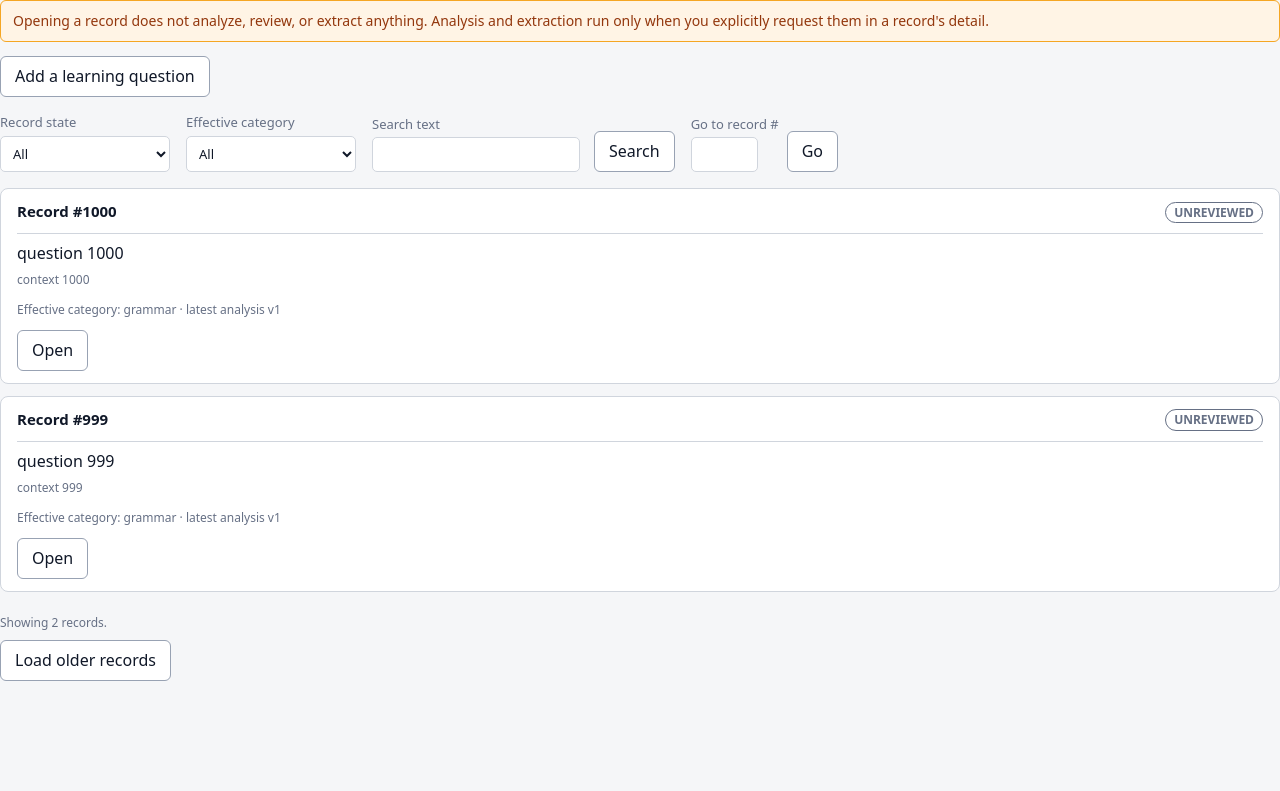
Test: RecordsBrowser finding old records (FLH-089) › jumps to an old record with one cursor request, reaches the last page, and returns to the newest
Expected: the text "question 1000" is shown, [17,242,124,264]
Type "#3" into the field labelled "Go to record #" at (724,155), box [691,138,758,172]
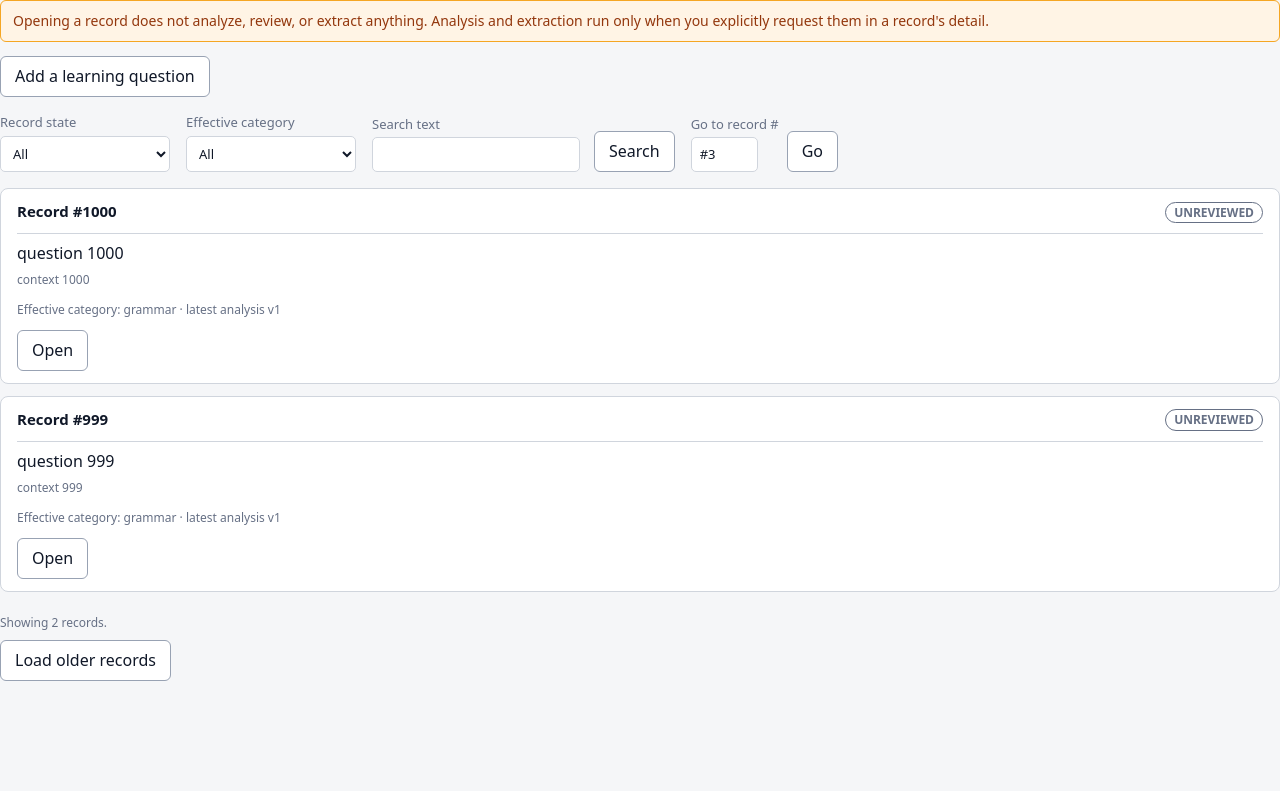
Click the button "Go" at (812,152), box [787,131,838,172]
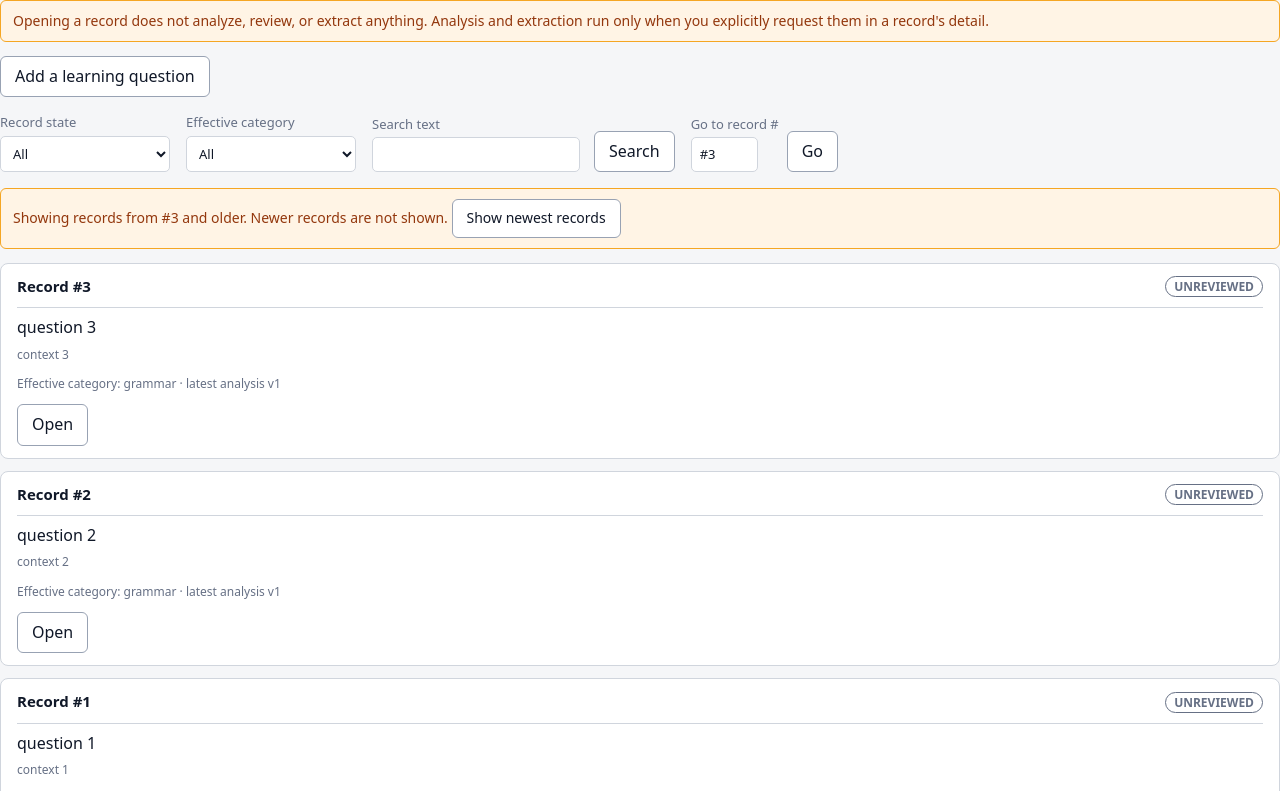
Expected: the text "question 3" is shown, [17,316,96,338]
Expected: the message shows "Showing records from #3 and older. Newer records are not shown.", [13,208,448,227]
Click the button "Show newest records" at (536,218), box [452,199,621,238]
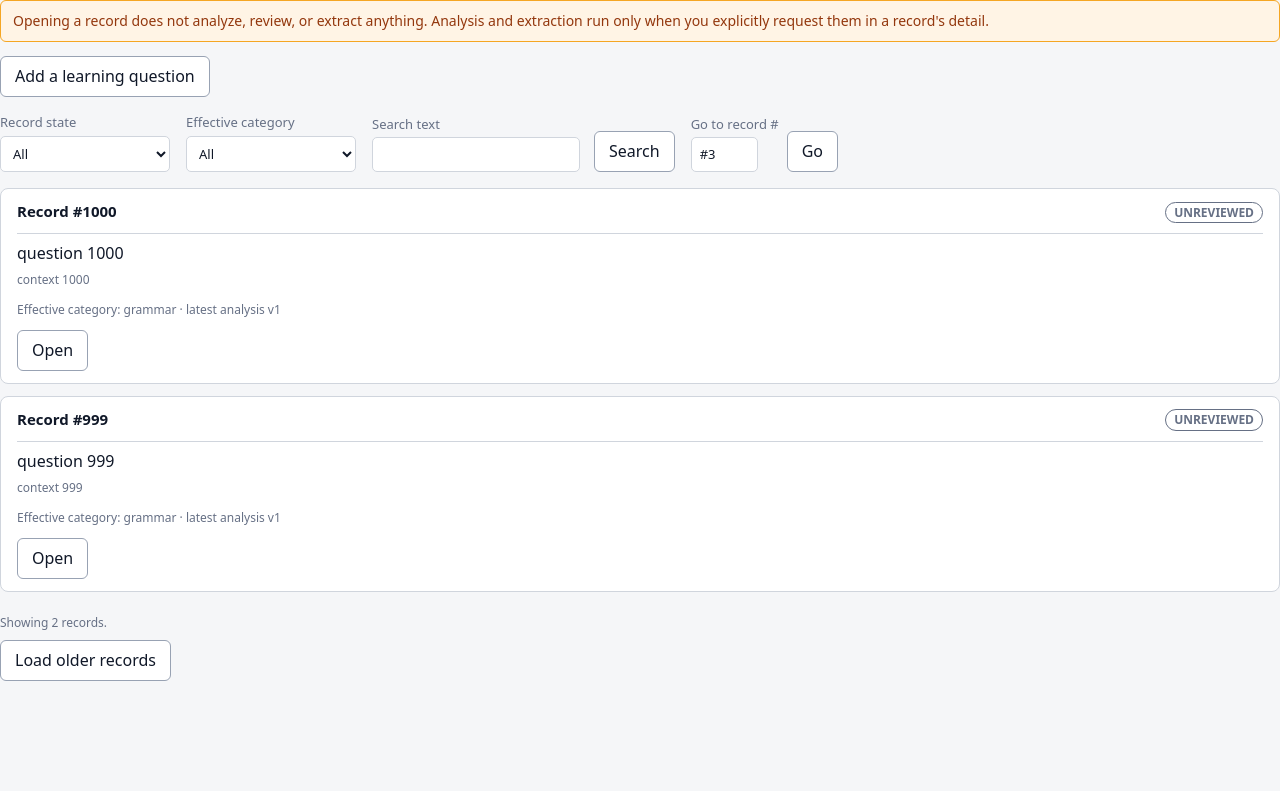
Expected: the text "question 1000" is shown, [17,242,124,264]
Expected: the text "Showing records from #3" is gone
